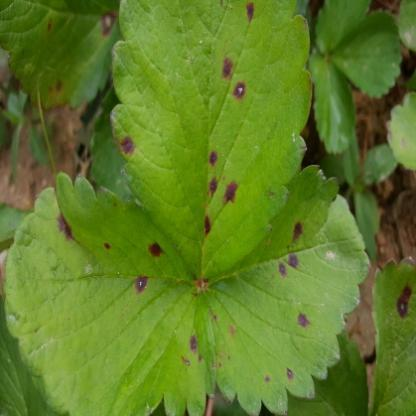Strawberry_Leaf_Spot: (108, 0, 312, 283), (3, 172, 217, 415), (199, 164, 371, 416)
